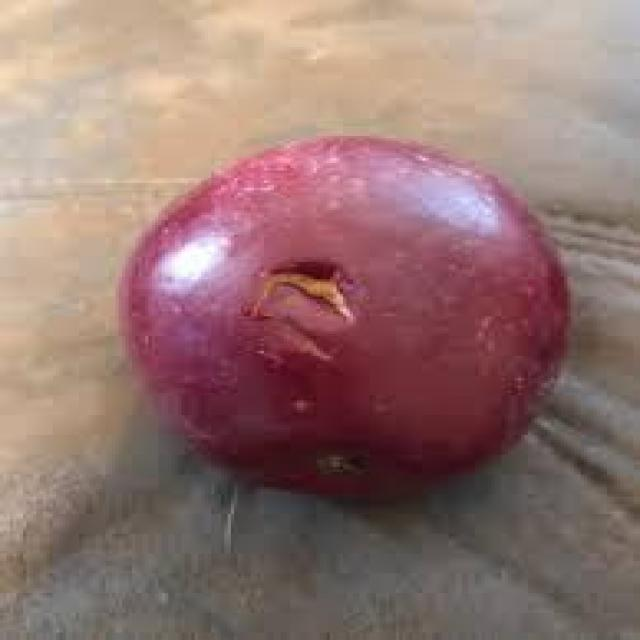Rotten: (112, 133, 568, 505)
